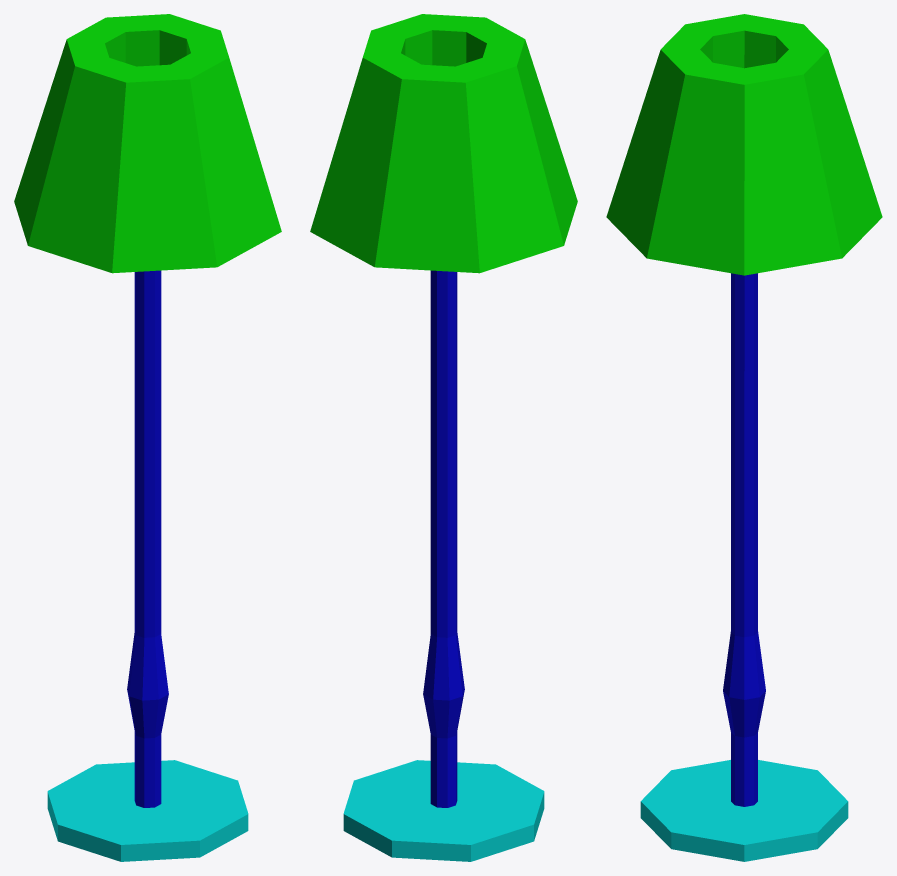
The model's file is Mesh_lampe_sur_pied_001.fbx.
The picture shows the model from 3 angles, left to right: view 1: azimuth 30°, elevation 25°; view 2: azimuth 150°, elevation 25°; view 3: azimuth 270°, elevation 25°; orthographic projection.
Visible parts, largest first — view 1: pasted__pasted__Cylinder.131; view 2: pasted__pasted__Cylinder.131; view 3: pasted__pasted__Cylinder.131.
Boxes of the visible parts, x1,y1,x2,y2 form: pasted__pasted__Cylinder.131: (14,14,281,861); pasted__pasted__Cylinder.131: (310,14,577,861); pasted__pasted__Cylinder.131: (606,14,882,861).
Size of the model in its own units: 52.91 by 162 by 52.91.
